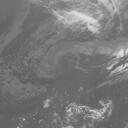cyclone: (43, 34, 102, 95)
